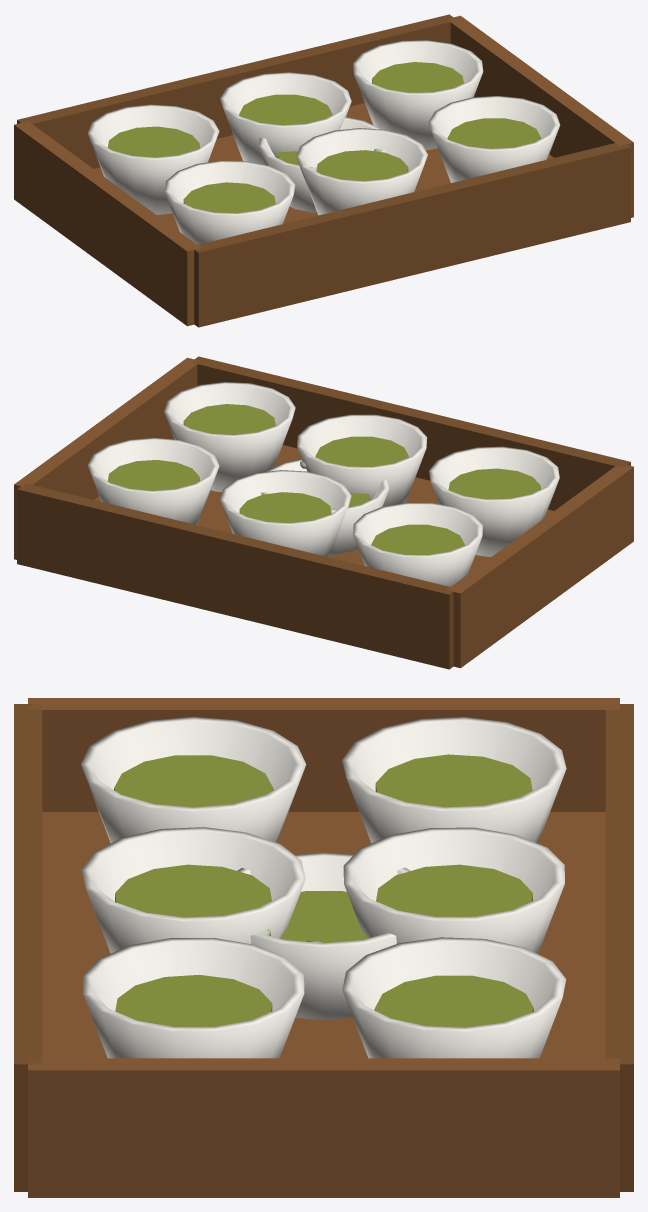
Rendered from Drink_Tea.fbx.
3 views of the same model, one above another, from view 1: azimuth 30°, elevation 25°; view 2: azimuth 150°, elevation 25°; view 3: azimuth 270°, elevation 25° (orthographic). The views are drawn at different scales.
Visible parts, largest first — view 1: Drink_Tea__Stack, Drink_Tea; view 2: Drink_Tea__Stack, Drink_Tea; view 3: Drink_Tea__Stack, Drink_Tea.
Boxes of the visible parts, x1,y1,x2,y2 form: Drink_Tea__Stack: [14, 14, 633, 327]; Drink_Tea: [258, 117, 386, 212]; Drink_Tea__Stack: [14, 356, 633, 669]; Drink_Tea: [261, 459, 389, 554]; Drink_Tea__Stack: [14, 698, 633, 1197]; Drink_Tea: [237, 852, 410, 1019].
Size of the model in its own units: 0.25 by 0.043 by 0.176.
